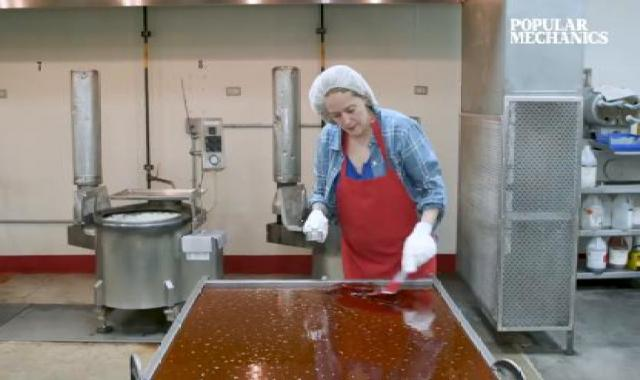hairnet: (307, 62, 377, 125)
